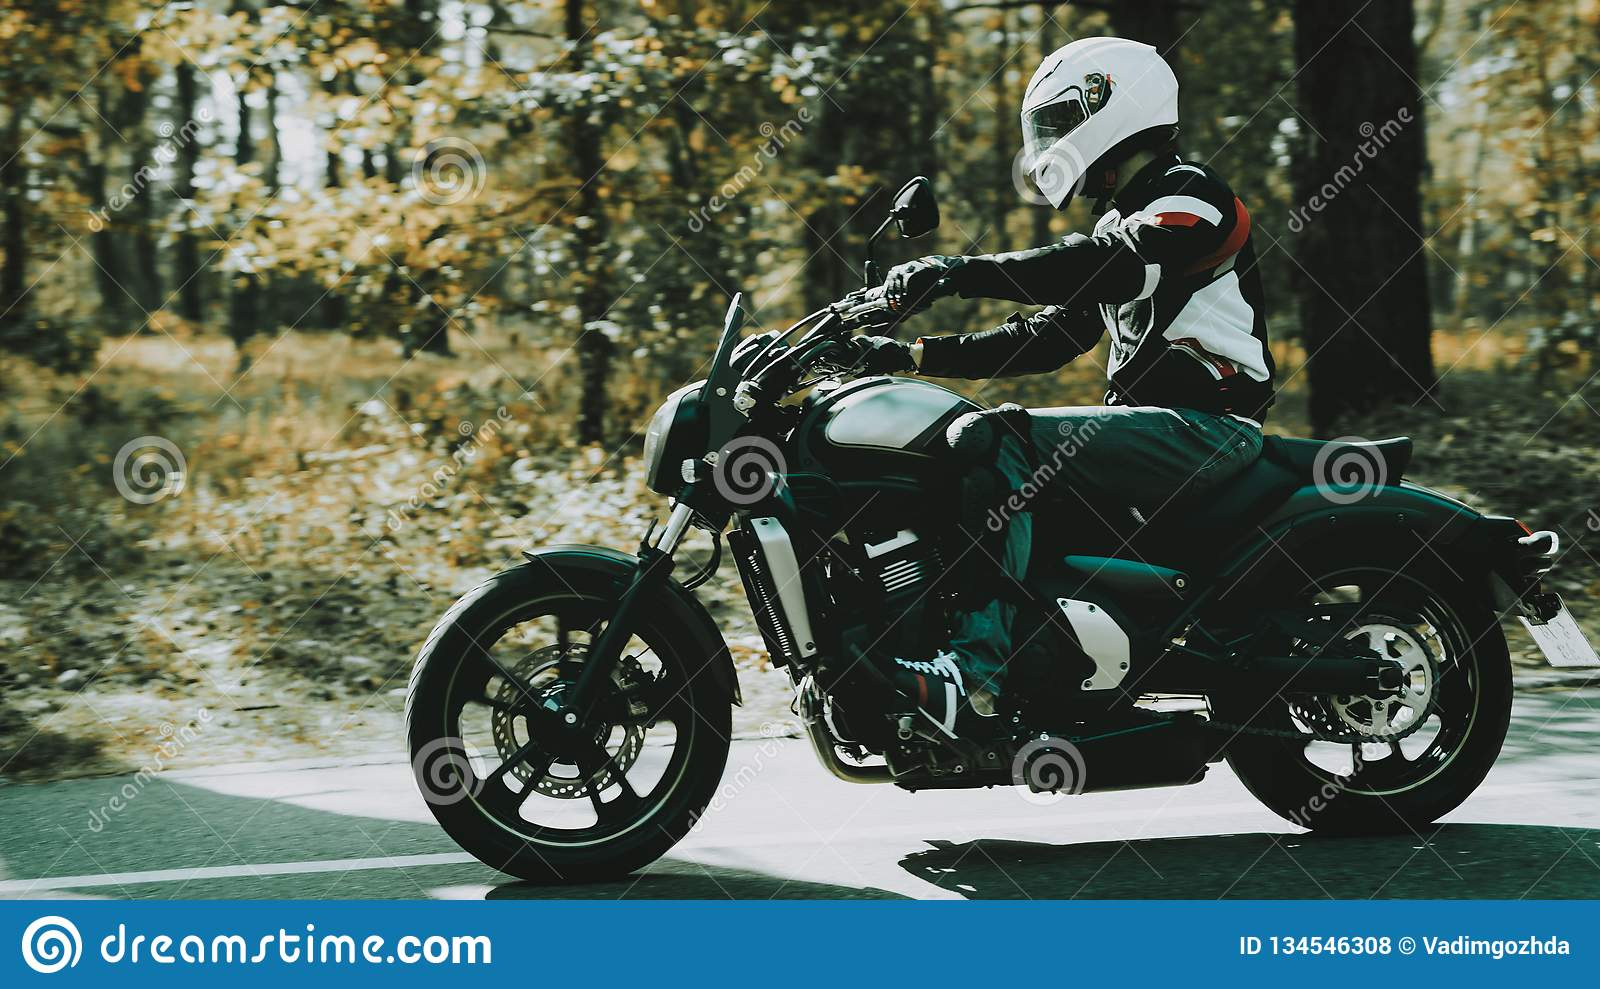helmet: (1010, 27, 1186, 176)
